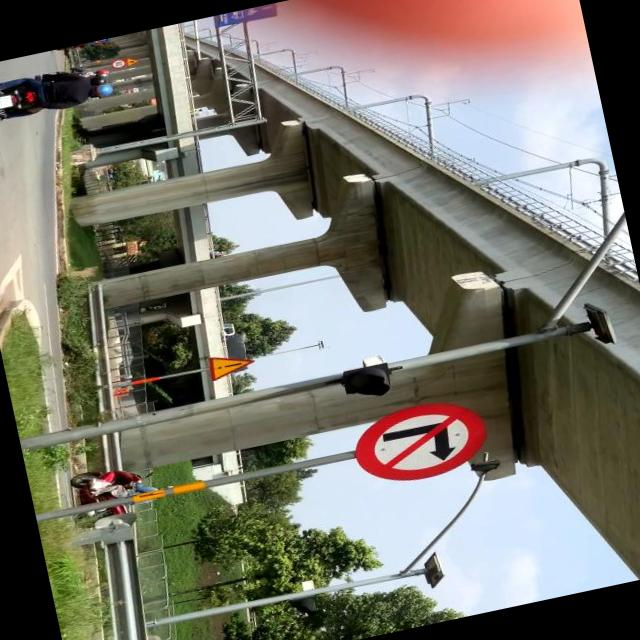P-123b: (346, 392, 493, 491)
W-233: (207, 349, 254, 382)
